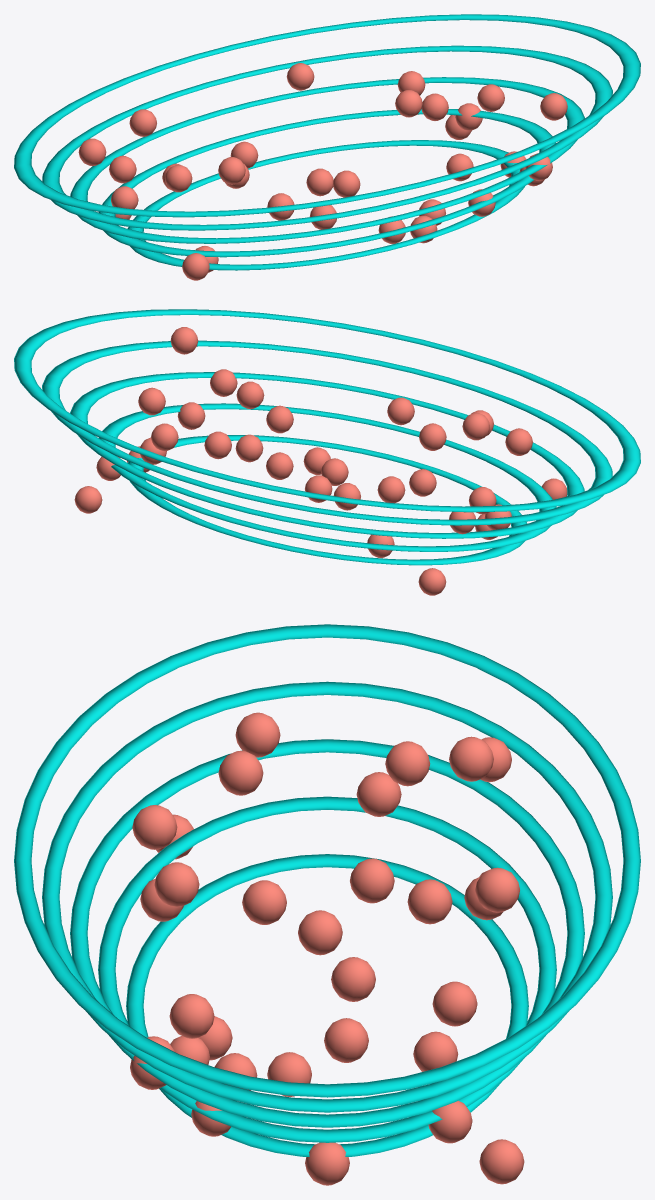
File: rough-er.glb
3 renders of one model, top to bottom at view 1: azimuth 30°, elevation 25°; view 2: azimuth 150°, elevation 25°; view 3: azimuth 270°, elevation 25°, orthographic. The views are drawn at different scales.
Visible parts, largest first — view 1: Rough Endoplasmic Reticulum, Ribosomes; view 2: Rough Endoplasmic Reticulum, Ribosomes; view 3: Rough Endoplasmic Reticulum, Ribosomes.
Boxes of the visible parts, x1,y1,x2,y2 form: Rough Endoplasmic Reticulum: (14,14,640,270); Ribosomes: (78,63,567,280); Rough Endoplasmic Reticulum: (14,309,640,565); Ribosomes: (74,327,567,595); Rough Endoplasmic Reticulum: (14,624,640,1156); Ribosomes: (130,712,524,1185).
Bounding box in the file's own units: 2.24 × 0.41 × 1.25.
